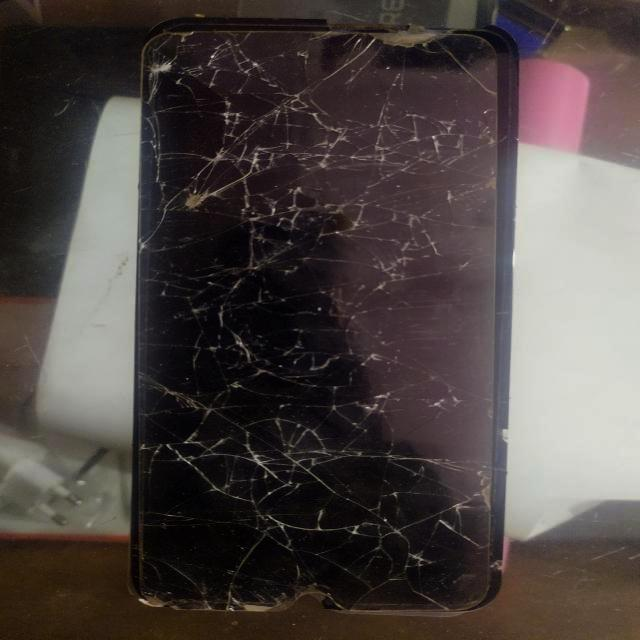phone: (112, 7, 518, 638)
